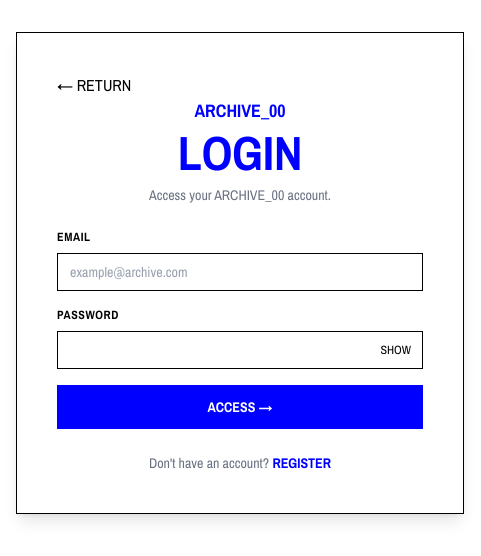
Test: LoginView › shows error message when login fails
The width and height of the screenshot is (481, 556).
Type "test@example.com" into the field labelled "Email" at (240, 272), box [57,253,423,291]
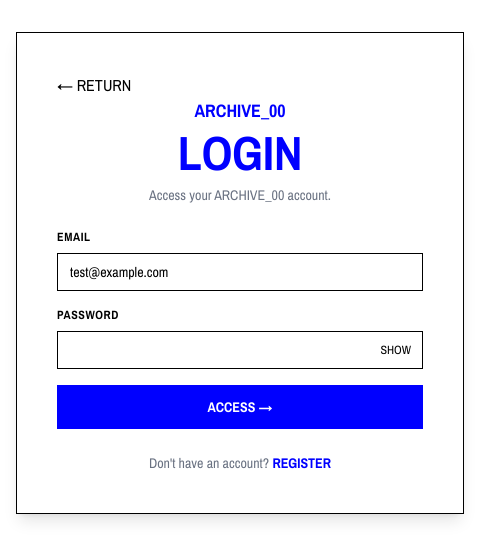
Type "wrong" into the password field labelled "Password" at (240, 350), box [57,331,423,369]
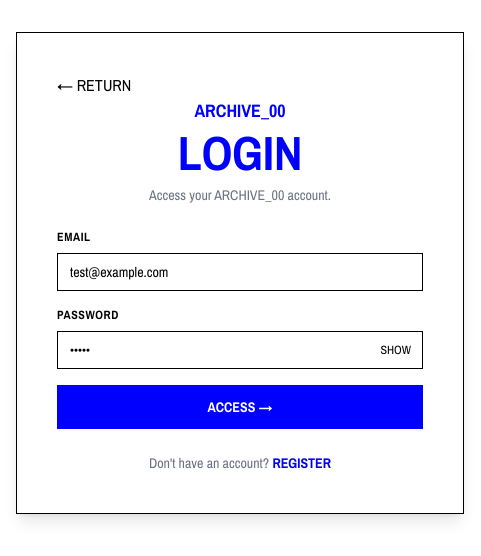
Submit the form, box [57,229,423,429]
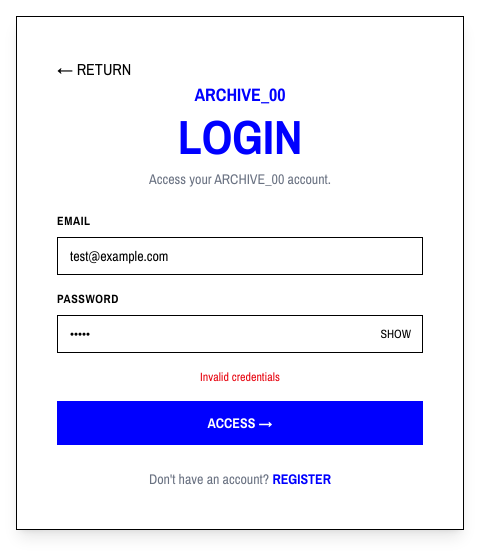
Result: the text "Invalid credentials" is shown at [200,369,280,385]
